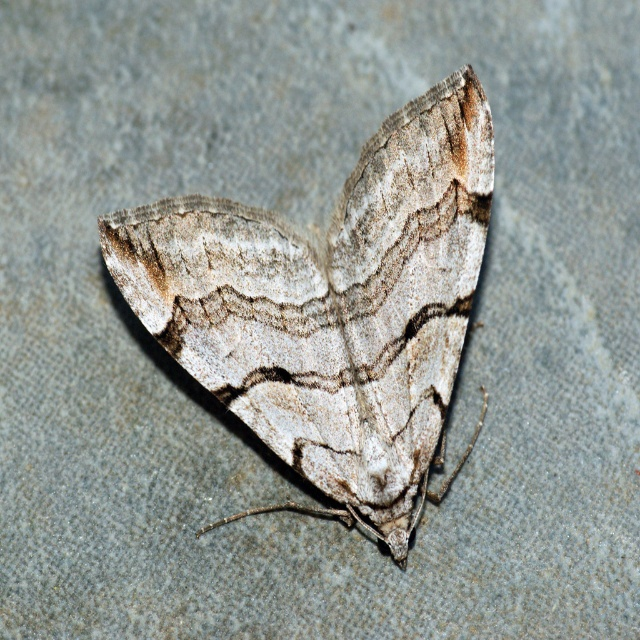Butterfly: (98, 61, 498, 570)
